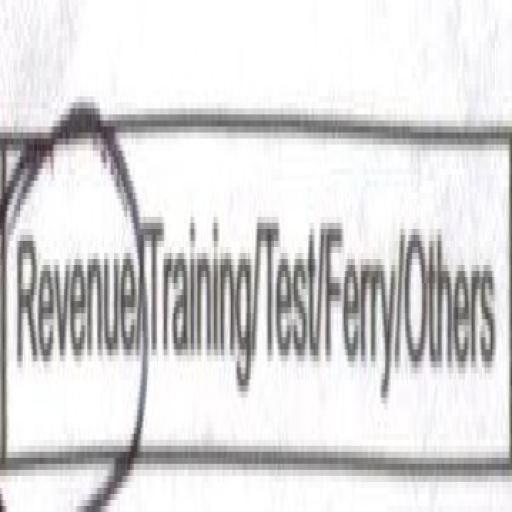check: (0, 42, 144, 512)
